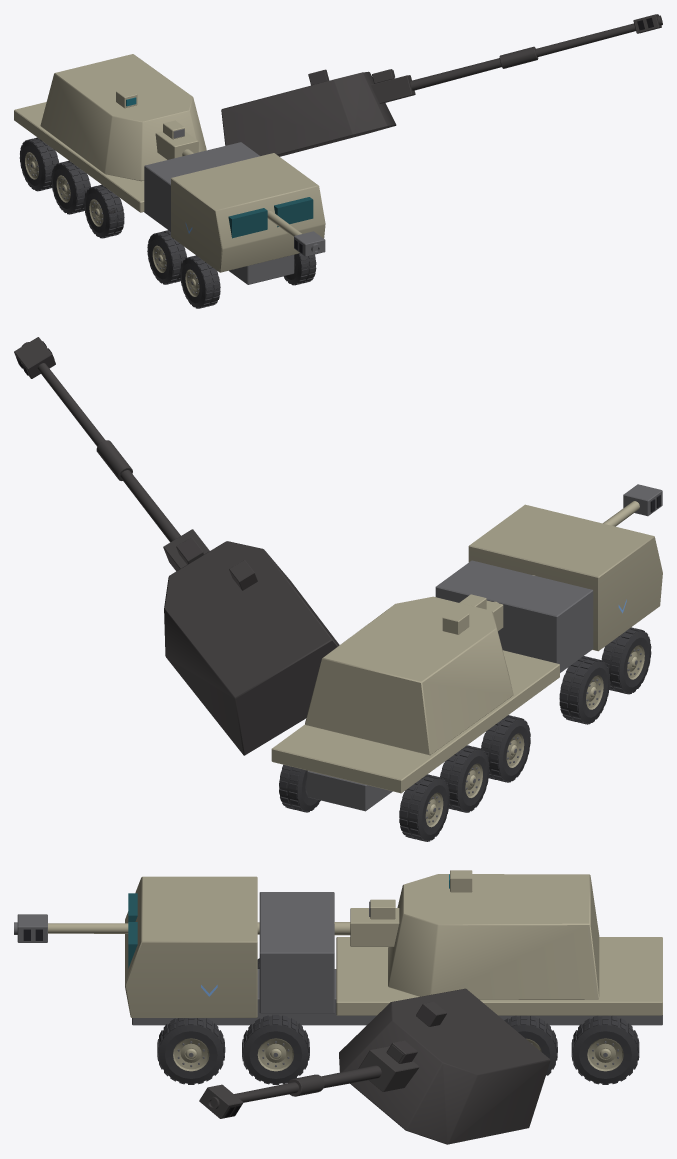
File: artillery__roem.glb
The picture shows the model from 3 angles, top to bottom: view 1: azimuth 30°, elevation 25°; view 2: azimuth 150°, elevation 25°; view 3: azimuth 270°, elevation 25°; orthographic projection. The views are drawn at different scales.
Parts seen in each view (by area): view 1: Hull_Mesh, Wreck, Turret_Mesh, Gun_Mesh, Wheel_L2_Mesh, Wheel_L4_Mesh, Wheel_L1_Mesh, Wheel_L3_Mesh, Wheel_L0_Mesh, Wheel_R4_Mesh; view 2: Hull_Mesh, Wreck, Turret_Mesh, Wheel_L3_Mesh, Wheel_L0_Mesh, Wheel_L2_Mesh, Wheel_L1_Mesh, Wheel_L4_Mesh, Gun_Mesh, Wheel_R0_Mesh; view 3: Hull_Mesh, Wreck, Turret_Mesh, Gun_Mesh, Wheel_R0_Mesh, Wheel_R3_Mesh, Wheel_R4_Mesh, Wheel_R1_Mesh.
Boxes of the visible parts, left/top/right/bottom form: Hull_Mesh: left=14, top=102, right=325, bottom=284; Wreck: left=39, top=14, right=662, bottom=304; Turret_Mesh: left=40, top=54, right=206, bottom=181; Gun_Mesh: left=155, top=120, right=325, bottom=256; Wheel_L2_Mesh: left=84, top=184, right=124, bottom=238; Wheel_L4_Mesh: left=180, top=255, right=220, bottom=308; Wheel_L1_Mesh: left=51, top=160, right=90, bottom=214; Wheel_L3_Mesh: left=147, top=230, right=186, bottom=284; Wheel_L0_Mesh: left=19, top=137, right=59, bottom=191; Wheel_R4_Mesh: left=283, top=253, right=316, bottom=285; Hull_Mesh: left=271, top=504, right=662, bottom=811; Wreck: left=14, top=337, right=634, bottom=829; Turret_Mesh: left=305, top=596, right=513, bottom=755; Wheel_L3_Mesh: left=559, top=656, right=610, bottom=724; Wheel_L0_Mesh: left=399, top=774, right=449, bottom=841; Wheel_L2_Mesh: left=481, top=715, right=530, bottom=782; Wheel_L1_Mesh: left=440, top=745, right=489, bottom=812; Wheel_L4_Mesh: left=601, top=627, right=651, bottom=694; Gun_Mesh: left=459, top=484, right=662, bottom=630; Wheel_R0_Mesh: left=279, top=764, right=320, bottom=812; Hull_Mesh: left=125, top=876, right=662, bottom=1025; Wreck: left=188, top=988, right=608, bottom=1144; Turret_Mesh: left=388, top=870, right=599, bottom=999; Gun_Mesh: left=14, top=899, right=399, bottom=946; Wheel_R0_Mesh: left=571, top=1015, right=639, bottom=1084; Wheel_R3_Mesh: left=242, top=1014, right=309, bottom=1084; Wheel_R4_Mesh: left=157, top=1018, right=225, bottom=1084; Wheel_R1_Mesh: left=504, top=1015, right=557, bottom=1075.
Size of what is drawn, in the model's own units: 11.86 by 4.08 by 10.73.
